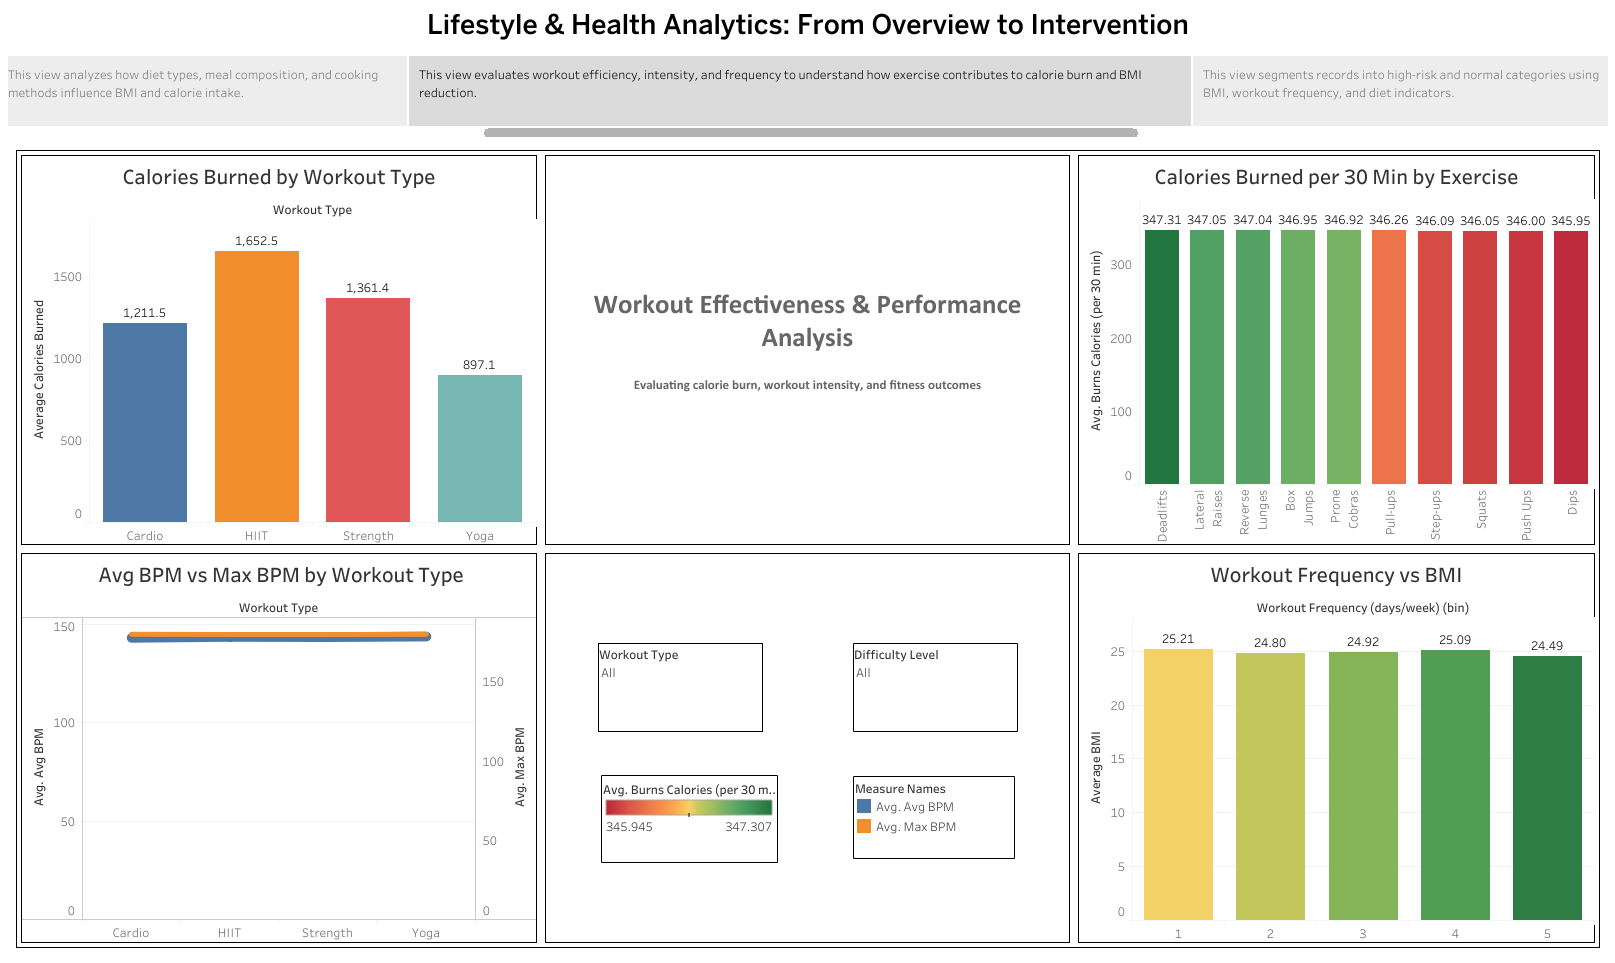

The dashboard page shown, as its layout file describes it:
{"tool":"tableau","page":{"name":"Workout Effectiveness & Performance (Dashboard)","canvas":[1000,1000],"units":"permille","ordinal":4},"visuals":[{"type":"worksheet","title":"Calories Burned by Workout Type","mark":"Automatic","rows":["Calculation_739997741619642370"],"cols":["Workout_Type"],"box":[5.5,11.1,327.8,488.9]},{"type":"text","box":[333.3,11.1,332.7,488.9]},{"type":"worksheet","title":"Calories Burned per 30 Min by Exercise","mark":"Automatic","rows":["Burns Calories (per 30 min)"],"cols":["Name of Exercise"],"box":[666.1,11.1,328.4,488.9]},{"type":"worksheet","title":" Avg BPM vs Max BPM by Workout Type","mark":"Line","rows":["Avg_BPM","Max_BPM"],"cols":["Workout_Type"],"box":[5.5,500,327.8,488.9]},{"type":"text","box":[333.3,500,332.7,488.9]},{"type":"worksheet","title":"Workout Frequency vs BMI","mark":"Automatic","rows":["Calculation_1219068151616319488"],"cols":["Workout Frequency (days/week) (bin)"],"box":[666.1,500,328.4,488.9]},{"type":"filter","title":"Calories Burned per 30 Min by Exercise","param":"[federated.1k2i0ly026o70u16u3tmm0684ppk].[none:Workout_Type:nk]","box":[368.7,615.8,103.1,109.6]},{"type":"filter","title":"Workout Frequency vs BMI","param":"[federated.1k2i0ly026o70u16u3tmm0684ppk].[none:Difficulty Level:nk]","box":[528.2,615.8,103.1,109.6]},{"type":"legend","title":"Calories Burned per 30 Min by Exercise","param":"[federated.1k2i0ly026o70u16u3tmm0684ppk].[avg:Burns Calories (per 30 min):qk]","box":[370.6,777.1,110.4,108.4]},{"type":"legend","title":" Avg BPM vs Max BPM by Workout Type","param":"[federated.1k2i0ly026o70u16u3tmm0684ppk].[:Measure Names]","box":[528.2,778.3,101.2,102.2]}]}

Visuals, with their boxes on the dashboard's canvas, which has no fixed pixel size, in thousandths of its width and height (x1, y1, x2, y2). These are canvas units, not pixel positions in the 1615x963 screenshot, which may show the page scaled, cropped or inside an application window:
"Calories Burned by Workout Type" worksheet: [left=6, top=11, right=333, bottom=500]
text: [left=333, top=11, right=666, bottom=500]
"Calories Burned per 30 Min by Exercise" worksheet: [left=666, top=11, right=994, bottom=500]
" Avg BPM vs Max BPM by Workout Type" worksheet (Line marks): [left=6, top=500, right=333, bottom=989]
text: [left=333, top=500, right=666, bottom=989]
"Workout Frequency vs BMI" worksheet: [left=666, top=500, right=994, bottom=989]
"Calories Burned per 30 Min by Exercise" filter: [left=369, top=616, right=472, bottom=725]
"Workout Frequency vs BMI" filter: [left=528, top=616, right=631, bottom=725]
"Calories Burned per 30 Min by Exercise" legend: [left=371, top=777, right=481, bottom=886]
" Avg BPM vs Max BPM by Workout Type" legend: [left=528, top=778, right=629, bottom=880]
